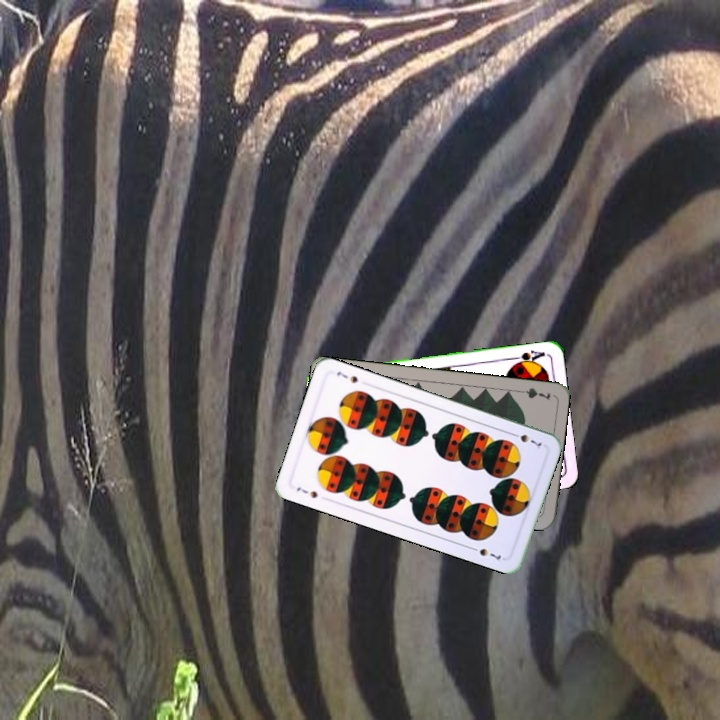G7: (513, 384, 553, 403)
S7: (507, 429, 544, 451), (292, 483, 320, 501)
SA: (508, 346, 547, 368)
